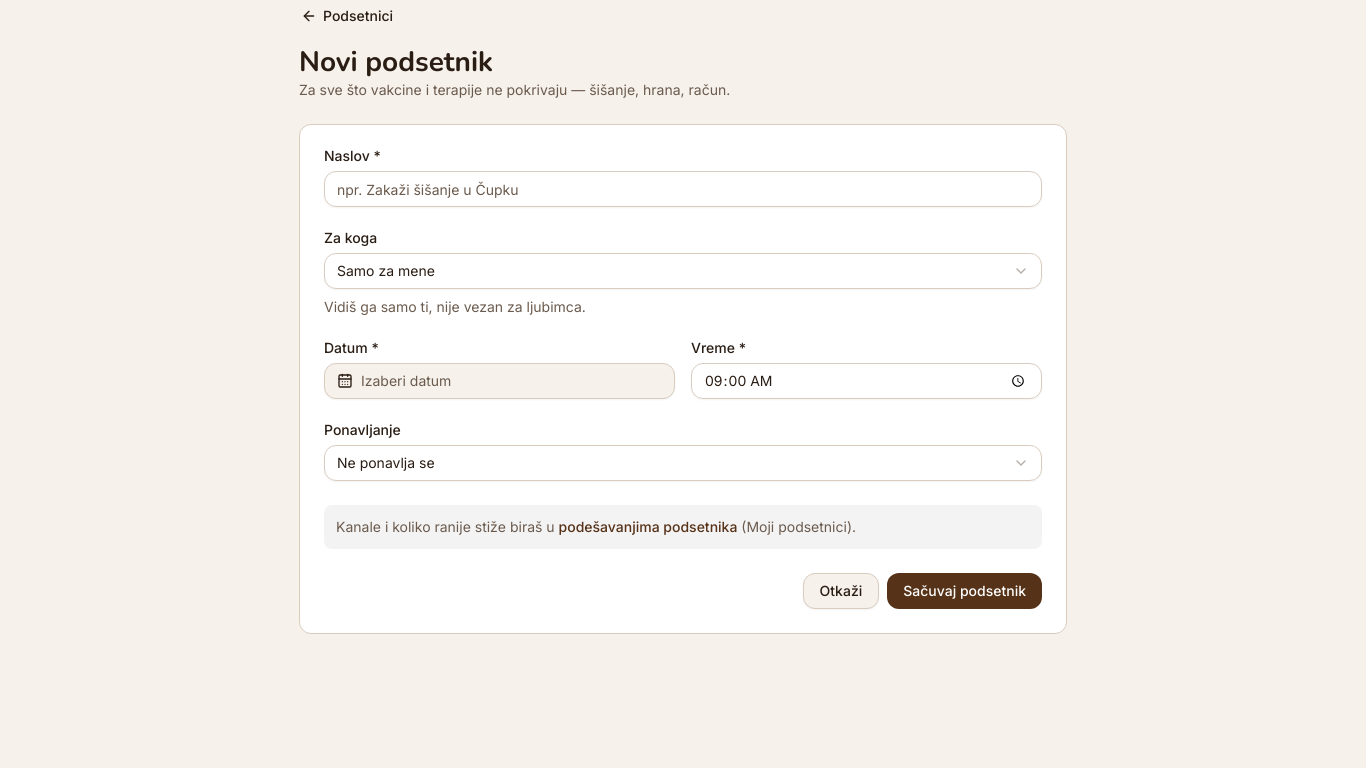
it: S11 — inline field errors › in_past: today at a time already passed is caught before sending
Type "Kupi hranu" into the field labelled "Naslov *" at [683, 189], box [324,171,1042,207]
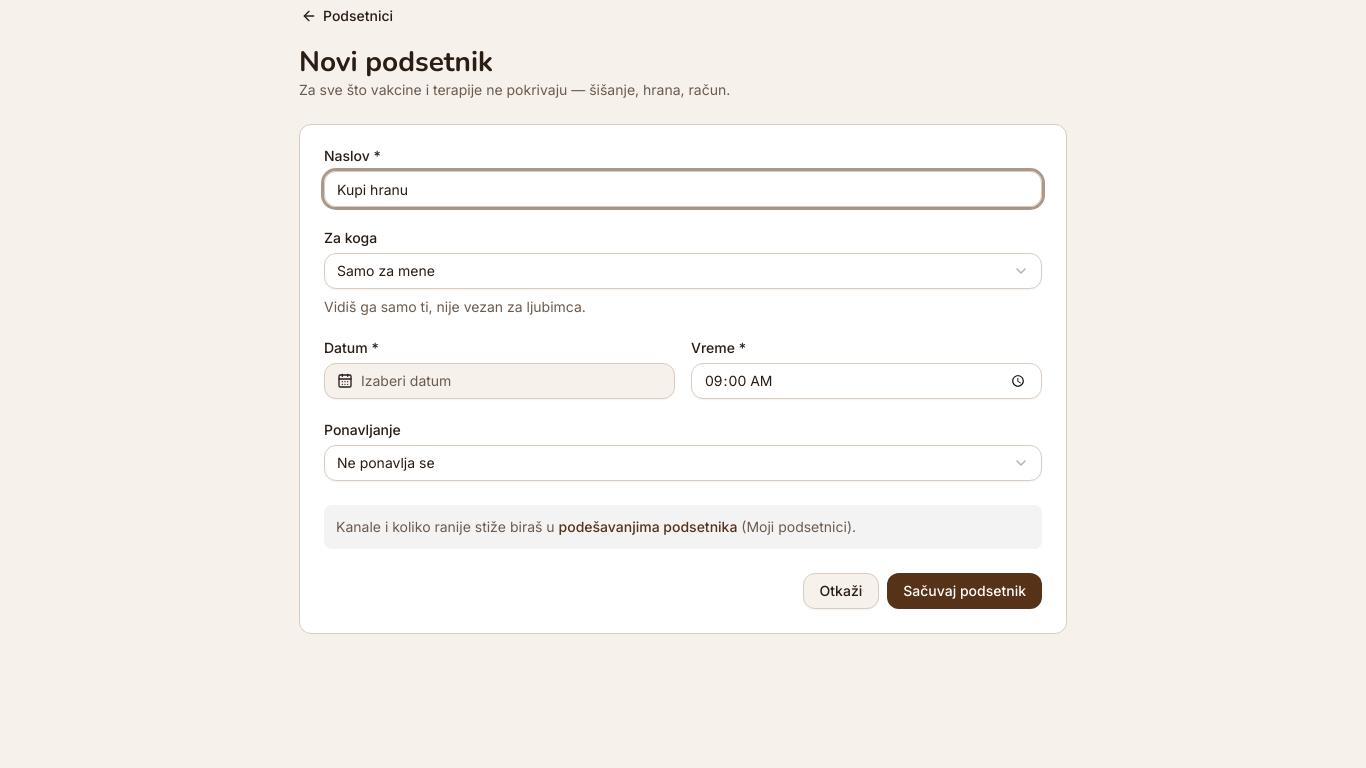
Click the button "Izaberi datum" at [406, 380], box [324,363,675,399]
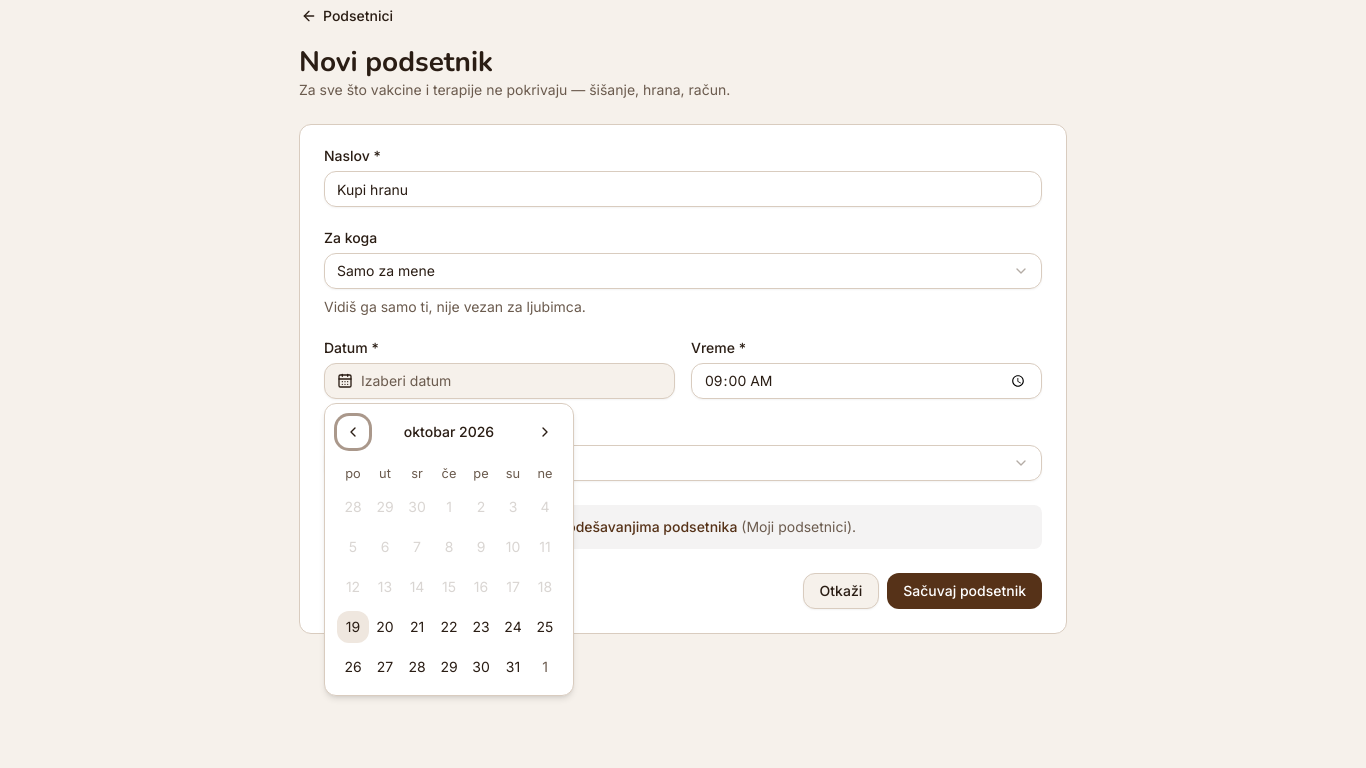
Click the button "19" at [353, 627], box [337,611,369,643]
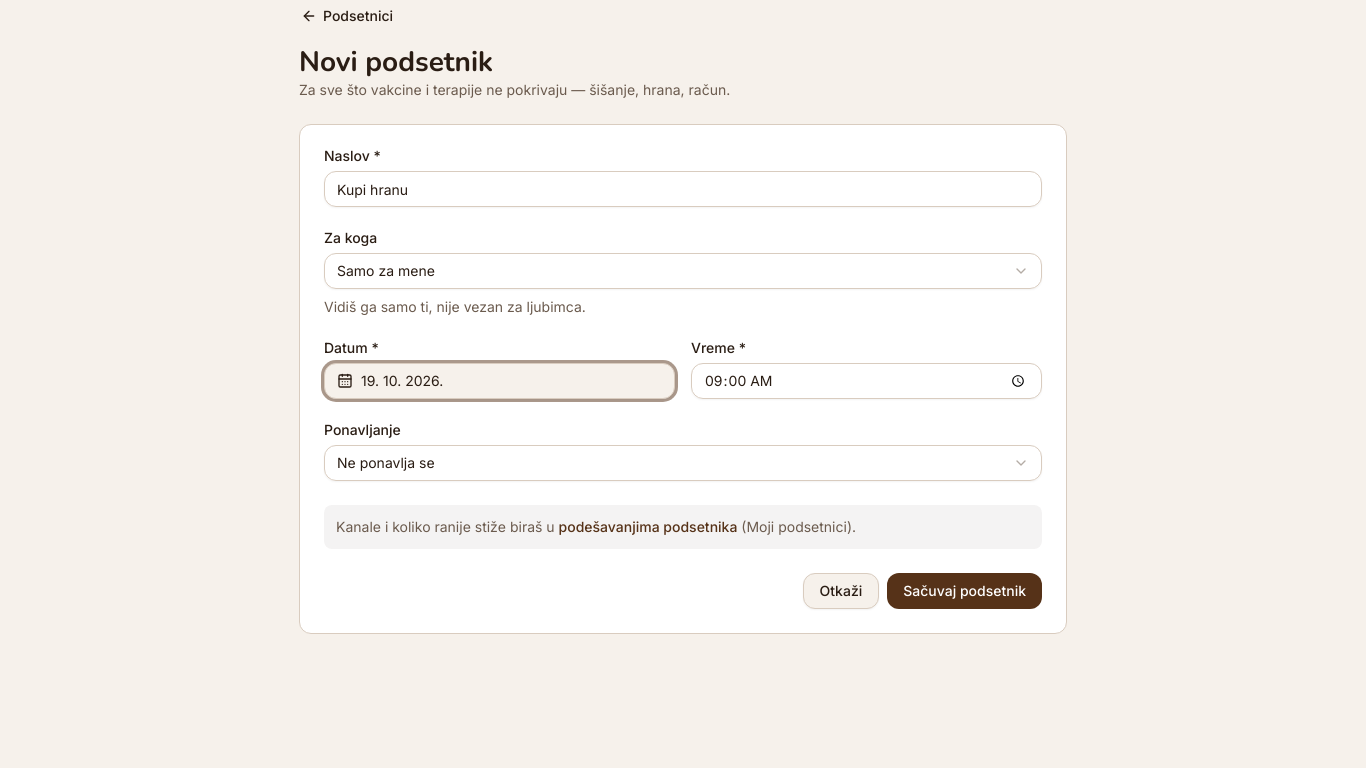
Click the button "Sačuvaj podsetnik" at [965, 591], box [887,573,1042,609]
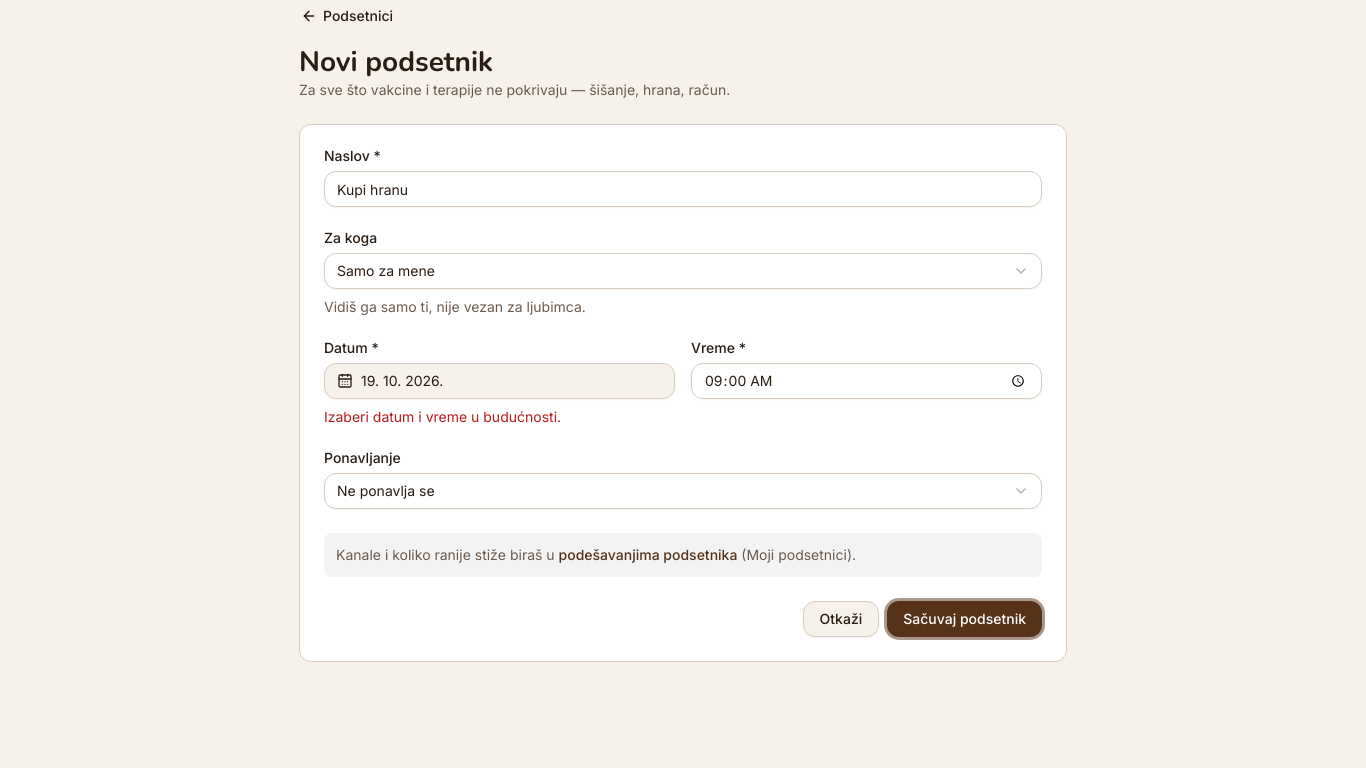
Expected: the text "Izaberi datum i vreme u budućnosti." is shown, [324,408,561,425]
